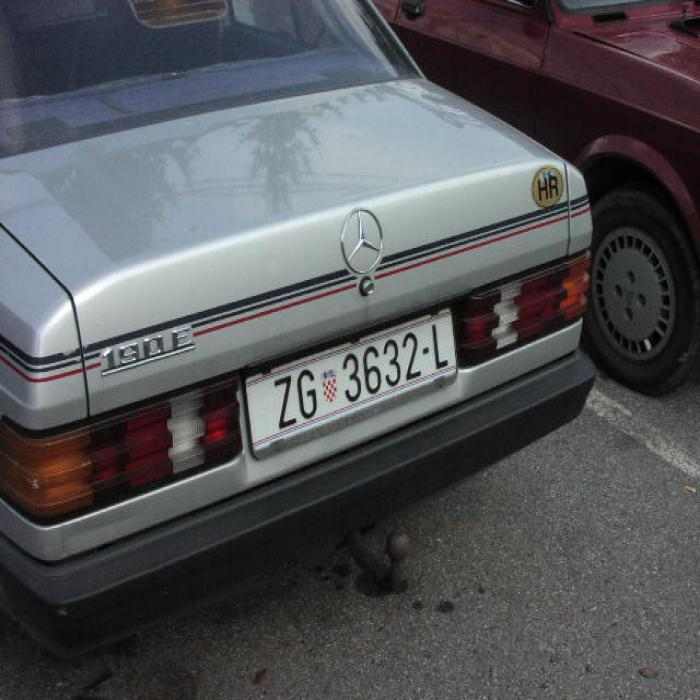number_plate: (255, 314, 449, 446)
